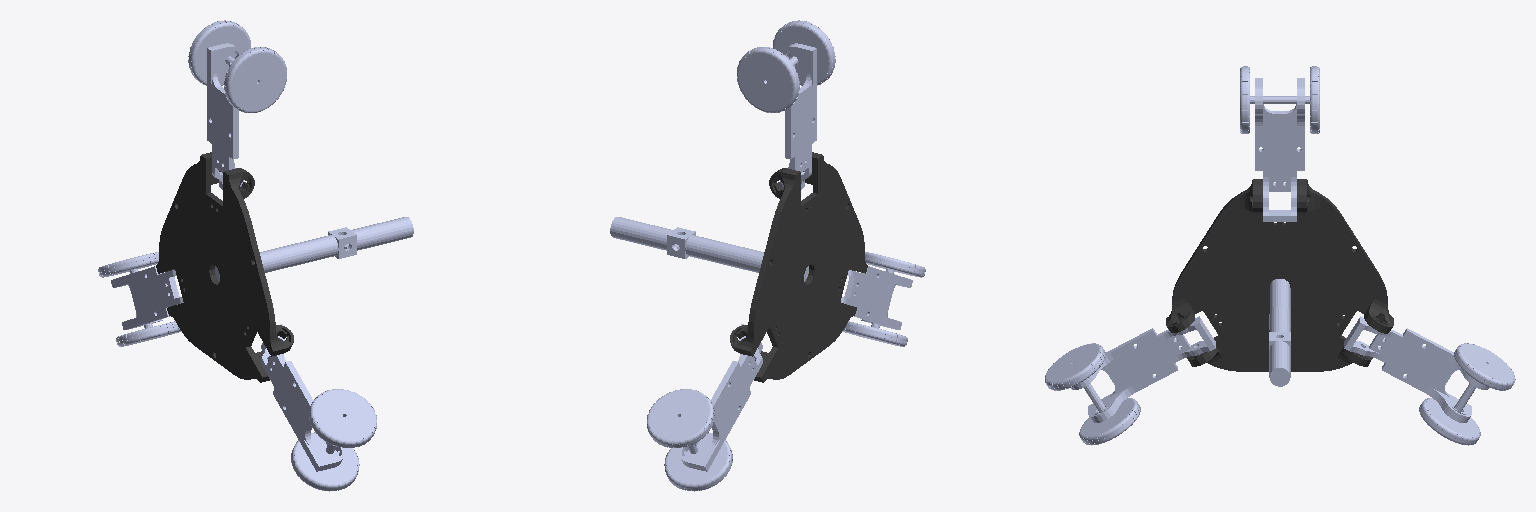
The robot description file, URDF, robot "segf_ver4":
<?xml version="1.0" encoding="utf-8"?>
<!-- This URDF was automatically created by SolidWorks to URDF Exporter! Originally created by [author] ([email redacted]) 
     Commit Version: 1.6.0-1-g15f4949  Build Version: 1.6.7594.29634
     For more information, please see http://wiki.ros.org/sw_urdf_exporter -->
<robot
  name="segf_ver4">
  <link
    name="base_link">
    <inertial>
      <origin
        xyz="0.010763 -0.19671 0.12575"
        rpy="0 0 0" />
      <mass
        value="0.029248" />
      <inertia
        ixx="3.8875E-05"
        ixy="-3.066E-09"
        ixz="-5.9801E-08"
        iyy="1.9864E-05"
        iyz="-7.6463E-10"
        izz="1.9306E-05" />
    </inertial>
    <visual>
      <origin
        xyz="0 0 0"
        rpy="0 0 0" />
      <geometry>
        <mesh
          filename="package://segf_ver4/meshes/base_link.STL" />
      </geometry>
      <material
        name="">
        <color
          rgba="0.29804 0.29804 0.29804 1" />
      </material>
    </visual>
    <collision>
      <origin
        xyz="0 0 0"
        rpy="0 0 0" />
      <geometry>
        <mesh
          filename="package://segf_ver4/meshes/base_link.STL" />
      </geometry>
    </collision>
  </link>
  <link
    name="sus1">
    <inertial>
      <origin
        xyz="0.024528 -0.0057974 -0.008"
        rpy="0 0 0" />
      <mass
        value="0.0048446" />
      <inertia
        ixx="3.4495E-07"
        ixy="5.1061E-08"
        ixz="1.278E-14"
        iyy="2.3123E-06"
        iyz="2.1948E-14"
        izz="2.0865E-06" />
    </inertial>
    <visual>
      <origin
        xyz="0 0 0"
        rpy="0 0 0" />
      <geometry>
        <mesh
          filename="package://segf_ver4/meshes/sus1.STL" />
      </geometry>
      <material
        name="">
        <color
          rgba="0.79216 0.81961 0.93333 1" />
      </material>
    </visual>
    <collision>
      <origin
        xyz="0 0 0"
        rpy="0 0 0" />
      <geometry>
        <mesh
          filename="package://segf_ver4/meshes/sus1.STL" />
      </geometry>
    </collision>
  </link>
  <joint
    name="sus1r"
    type="revolute">
    <origin
      xyz="0.020949 -0.28148 0.067161"
      rpy="3.1416 -0.5236 1.5708" />
    <parent
      link="base_link" />
    <child
      link="sus1" />
    <axis
      xyz="0 0 1" />
    <limit
      lower="0"
      upper="0"
      effort="0"
      velocity="0" />
  </joint>
  <link
    name="w1">
    <inertial>
      <origin
        xyz="5.2222E-12 0.011 1.8397E-11"
        rpy="0 0 0" />
      <mass
        value="0.0080256" />
      <inertia
        ixx="2.6304E-06"
        ixy="-7.5528E-16"
        ixz="6.5732E-16"
        iyy="9.6877E-07"
        iyz="-1.4033E-15"
        izz="2.6304E-06" />
    </inertial>
    <visual>
      <origin
        xyz="0 0 0"
        rpy="0 0 0" />
      <geometry>
        <mesh
          filename="package://segf_ver4/meshes/w1.STL" />
      </geometry>
      <material
        name="">
        <color
          rgba="0.79216 0.81961 0.93333 1" />
      </material>
    </visual>
    <collision>
      <origin
        xyz="0 0 0"
        rpy="0 0 0" />
      <geometry>
        <mesh
          filename="package://segf_ver4/meshes/w1.STL" />
      </geometry>
    </collision>
  </link>
  <joint
    name="w1c"
    type="continuous">
    <origin
      xyz="0 0 -0.019"
      rpy="1.5708 0 -1.0993" />
    <parent
      link="sus1" />
    <child
      link="w1" />
    <axis
      xyz="0 1 0" />
  </joint>
  <link
    name="sus2">
    <inertial>
      <origin
        xyz="0.024528 -0.0057974 -0.008"
        rpy="0 0 0" />
      <mass
        value="0.0048446" />
      <inertia
        ixx="3.4495E-07"
        ixy="5.1061E-08"
        ixz="1.5559E-13"
        iyy="2.3123E-06"
        iyz="4.3038E-14"
        izz="2.0865E-06" />
    </inertial>
    <visual>
      <origin
        xyz="0 0 0"
        rpy="0 0 0" />
      <geometry>
        <mesh
          filename="package://segf_ver4/meshes/sus2.STL" />
      </geometry>
      <material
        name="">
        <color
          rgba="0.79216 0.81961 0.93333 1" />
      </material>
    </visual>
    <collision>
      <origin
        xyz="0 0 0"
        rpy="0 0 0" />
      <geometry>
        <mesh
          filename="package://segf_ver4/meshes/sus2.STL" />
      </geometry>
    </collision>
  </link>
  <joint
    name="sus2r"
    type="revolute">
    <origin
      xyz="0.020949 -0.10396 0.081018"
      rpy="0 -0.5236 -1.5708" />
    <parent
      link="base_link" />
    <child
      link="sus2" />
    <axis
      xyz="0 0 1" />
    <limit
      lower="0"
      upper="0"
      effort="0"
      velocity="0" />
  </joint>
  <link
    name="w2">
    <inertial>
      <origin
        xyz="5.2131E-12 0.011 1.8437E-11"
        rpy="0 0 0" />
      <mass
        value="0.0080256" />
      <inertia
        ixx="2.6304E-06"
        ixy="-7.5528E-16"
        ixz="6.5728E-16"
        iyy="9.6877E-07"
        iyz="-1.3997E-15"
        izz="2.6304E-06" />
    </inertial>
    <visual>
      <origin
        xyz="0 0 0"
        rpy="0 0 0" />
      <geometry>
        <mesh
          filename="package://segf_ver4/meshes/w2.STL" />
      </geometry>
      <material
        name="">
        <color
          rgba="0.79216 0.81961 0.93333 1" />
      </material>
    </visual>
    <collision>
      <origin
        xyz="0 0 0"
        rpy="0 0 0" />
      <geometry>
        <mesh
          filename="package://segf_ver4/meshes/w2.STL" />
      </geometry>
    </collision>
  </link>
  <joint
    name="w2c"
    type="continuous">
    <origin
      xyz="0 0 -0.019"
      rpy="1.5708 0 -1.0993" />
    <parent
      link="sus2" />
    <child
      link="w2" />
    <axis
      xyz="0 1 0" />
  </joint>
  <link
    name="sus3">
    <inertial>
      <origin
        xyz="0.024528 -0.0057974 -0.008"
        rpy="0 0 0" />
      <mass
        value="0.0048446" />
      <inertia
        ixx="3.4495E-07"
        ixy="5.1061E-08"
        ixz="7.8572E-14"
        iyy="2.3122E-06"
        iyz="3.487E-14"
        izz="2.0865E-06" />
    </inertial>
    <visual>
      <origin
        xyz="0 0 0"
        rpy="0 0 0" />
      <geometry>
        <mesh
          filename="package://segf_ver4/meshes/sus3.STL" />
      </geometry>
      <material
        name="">
        <color
          rgba="0.79216 0.81961 0.93333 1" />
      </material>
    </visual>
    <collision>
      <origin
        xyz="0 0 0"
        rpy="0 0 0" />
      <geometry>
        <mesh
          filename="package://segf_ver4/meshes/sus3.STL" />
      </geometry>
    </collision>
  </link>
  <joint
    name="sus3r"
    type="revolute">
    <origin
      xyz="0.020949 -0.20472 0.22783"
      rpy="1.5708 1.5708 0" />
    <parent
      link="base_link" />
    <child
      link="sus3" />
    <axis
      xyz="0 0 1" />
    <limit
      lower="0"
      upper="0"
      effort="0"
      velocity="0" />
  </joint>
  <link
    name="w3">
    <inertial>
      <origin
        xyz="5.2175E-12 0.011 1.8417E-11"
        rpy="0 0 0" />
      <mass
        value="0.0080256" />
      <inertia
        ixx="2.6304E-06"
        ixy="-7.5527E-16"
        ixz="6.573E-16"
        iyy="9.6877E-07"
        iyz="-1.4015E-15"
        izz="2.6304E-06" />
    </inertial>
    <visual>
      <origin
        xyz="0 0 0"
        rpy="0 0 0" />
      <geometry>
        <mesh
          filename="package://segf_ver4/meshes/w3.STL" />
      </geometry>
      <material
        name="">
        <color
          rgba="0.79216 0.81961 0.93333 1" />
      </material>
    </visual>
    <collision>
      <origin
        xyz="0 0 0"
        rpy="0 0 0" />
      <geometry>
        <mesh
          filename="package://segf_ver4/meshes/w3.STL" />
      </geometry>
    </collision>
  </link>
  <joint
    name="w3c"
    type="continuous">
    <origin
      xyz="0 0 -0.019"
      rpy="1.5708 0 -1.0993" />
    <parent
      link="sus3" />
    <child
      link="w3" />
    <axis
      xyz="0 1 0" />
  </joint>
  <link
    name="con1">
    <inertial>
      <origin
        xyz="0.015 -8.3267E-17 -1.5266E-16"
        rpy="0 0 0" />
      <mass
        value="0.0023562" />
      <inertia
        ixx="2.9452E-08"
        ixy="4.8635E-22"
        ixz="1.2191E-21"
        iyy="1.9144E-07"
        iyz="0"
        izz="1.9144E-07" />
    </inertial>
    <visual>
      <origin
        xyz="0 0 0"
        rpy="0 0 0" />
      <geometry>
        <mesh
          filename="package://segf_ver4/meshes/con1.STL" />
      </geometry>
      <material
        name="">
        <color
          rgba="0.79216 0.81961 0.93333 1" />
      </material>
    </visual>
    <collision>
      <origin
        xyz="0 0 0"
        rpy="0 0 0" />
      <geometry>
        <mesh
          filename="package://segf_ver4/meshes/con1.STL" />
      </geometry>
    </collision>
  </link>
  <joint
    name="con1f"
    type="fixed">
    <origin
      xyz="0.011619 -0.19672 0.12534"
      rpy="3.0572 0 0" />
    <parent
      link="base_link" />
    <child
      link="con1" />
    <axis
      xyz="0 0 0" />
  </joint>
  <link
    name="con2">
    <inertial>
      <origin
        xyz="1.1102E-16 0.04813 -1.3878E-16"
        rpy="0 0 0" />
      <mass
        value="0.0027934" />
      <inertia
        ixx="3.4715E-07"
        ixy="-3.2053E-22"
        ixz="6.2304E-24"
        iyy="3.9932E-08"
        iyz="1.0635E-21"
        izz="3.4942E-07" />
    </inertial>
    <visual>
      <origin
        xyz="0 0 0"
        rpy="0 0 0" />
      <geometry>
        <mesh
          filename="package://segf_ver4/meshes/con2.STL" />
      </geometry>
      <material
        name="">
        <color
          rgba="0.79216 0.81961 0.93333 1" />
      </material>
    </visual>
    <collision>
      <origin
        xyz="0 0 0"
        rpy="0 0 0" />
      <geometry>
        <mesh
          filename="package://segf_ver4/meshes/con2.STL" />
      </geometry>
    </collision>
  </link>
  <joint
    name="con2p"
    type="prismatic">
    <origin
      xyz="0 0 0"
      rpy="0 -1.4864 -1.5708" />
    <parent
      link="con1" />
    <child
      link="con2" />
    <axis
      xyz="0 -1 0" />
    <limit
      lower="0"
      upper="0"
      effort="0"
      velocity="0" />
  </joint>
  <link
    name="uni">
    <inertial>
      <origin
        xyz="-1.3878E-17 1.9284E-09 1.9284E-09"
        rpy="0 0 0" />
      <mass
        value="0.00027149" />
      <inertia
        ixx="5.9356E-09"
        ixy="4.4722E-15"
        ixz="-4.4722E-15"
        iyy="3.2007E-09"
        iyz="1.0079E-21"
        izz="3.2007E-09" />
    </inertial>
    <visual>
      <origin
        xyz="0 0 0"
        rpy="0 0 0" />
      <geometry>
        <mesh
          filename="package://segf_ver4/meshes/uni.STL" />
      </geometry>
      <material
        name="">
        <color
          rgba="0.79216 0.81961 0.93333 1" />
      </material>
    </visual>
    <collision>
      <origin
        xyz="0 0 0"
        rpy="0 0 0" />
      <geometry>
        <mesh
          filename="package://segf_ver4/meshes/uni.STL" />
      </geometry>
    </collision>
  </link>
  <joint
    name="unir"
    type="revolute">
    <origin
      xyz="0 0.065 0"
      rpy="0 0 1.5708" />
    <parent
      link="con2" />
    <child
      link="uni" />
    <axis
      xyz="0 -1 0" />
    <limit
      lower="0"
      upper="0"
      effort="0"
      velocity="0" />
  </joint>
  <link
    name="con3">
    <inertial>
      <origin
        xyz="0.01687 -7.494E-16 5.5511E-16"
        rpy="0 0 0" />
      <mass
        value="0.0027934" />
      <inertia
        ixx="3.9932E-08"
        ixy="-2.2144E-21"
        ixz="9.9215E-22"
        iyy="3.4942E-07"
        iyz="2.2122E-23"
        izz="3.4715E-07" />
    </inertial>
    <visual>
      <origin
        xyz="0 0 0"
        rpy="0 0 0" />
      <geometry>
        <mesh
          filename="package://segf_ver4/meshes/con3.STL" />
      </geometry>
      <material
        name="">
        <color
          rgba="0.79216 0.81961 0.93333 1" />
      </material>
    </visual>
    <collision>
      <origin
        xyz="0 0 0"
        rpy="0 0 0" />
      <geometry>
        <mesh
          filename="package://segf_ver4/meshes/con3.STL" />
      </geometry>
    </collision>
  </link>
  <joint
    name="con3r"
    type="revolute">
    <origin
      xyz="0 0 0"
      rpy="0 0 0" />
    <parent
      link="uni" />
    <child
      link="con3" />
    <axis
      xyz="0 0 -1" />
    <limit
      lower="0"
      upper="0"
      effort="0"
      velocity="0" />
  </joint>
  <link
    name="con4">
    <inertial>
      <origin
        xyz="-0.018 6.6613E-16 3.8858E-16"
        rpy="0 0 0" />
      <mass
        value="0.0023562" />
      <inertia
        ixx="2.9452E-08"
        ixy="-1.1574E-21"
        ixz="-6.8231E-22"
        iyy="1.9144E-07"
        iyz="0"
        izz="1.9144E-07" />
    </inertial>
    <visual>
      <origin
        xyz="0 0 0"
        rpy="0 0 0" />
      <geometry>
        <mesh
          filename="package://segf_ver4/meshes/con4.STL" />
      </geometry>
      <material
        name="">
        <color
          rgba="0.79216 0.81961 0.93333 1" />
      </material>
    </visual>
    <collision>
      <origin
        xyz="0 0 0"
        rpy="0 0 0" />
      <geometry>
        <mesh
          filename="package://segf_ver4/meshes/con4.STL" />
      </geometry>
    </collision>
  </link>
  <joint
    name="con4p"
    type="prismatic">
    <origin
      xyz="0.068 0 0"
      rpy="-0.9827 0 0" />
    <parent
      link="con3" />
    <child
      link="con4" />
    <axis
      xyz="-1 0 0" />
    <limit
      lower="0"
      upper="0"
      effort="0"
      velocity="0" />
  </joint>
</robot>

--- Render facts (derived) ---
3 views of the same robot in one strip: view 1: azimuth 30°, elevation 25°; view 2: azimuth 150°, elevation 25°; view 3: azimuth 270°, elevation 25° (orthographic).
Model segf_ver4 with 12 links and 11 joints (5 revolute, 3 continuous, 2 prismatic, 1 fixed), rooted at base_link, posed every joint at zero.
Visible links, largest first — view 1: base_link, w3, w1, sus1, sus3, sus2, con3, w2, con2; view 2: base_link, w3, w2, sus2, sus3, sus1, w1, con3, con2; view 3: base_link, sus1, sus2, sus3, w2, w1, w3, con3, con2, con1.
Boxes of the visible links, x1,y1,x2,y2 form: base_link: (156,152,293,382); w3: (188,20,286,112); w1: (291,389,376,491); sus1: (261,324,344,471); sus3: (207,43,248,196); sus2: (111,266,183,329); con3: (328,217,413,254); w2: (98,252,181,346); con2: (275,229,356,268); base_link: (730,152,867,382); w3: (737,20,835,112); w2: (647,389,732,491); sus2: (679,324,762,471); sus3: (775,43,816,196); sus1: (841,266,912,329); w1: (842,252,925,346); con3: (610,217,695,258); con2: (667,229,748,269); base_link: (1166,179,1393,371); sus1: (1071,316,1215,422); sus2: (1344,316,1488,422); sus3: (1255,78,1304,221); w2: (1419,343,1515,445); w1: (1045,343,1140,445); w3: (1240,66,1319,133); con3: (1269,335,1290,386); con2: (1269,305,1290,345); con1: (1270,279,1290,313).
Bounding box of the posed robot: 0.1067 × 0.2231 × 0.1936 m (x, y, z).
Meshes: 12 distinct files referenced, 10 mesh visuals loaded (10 binary STL); not drawn: 2 (reference not matched to a file when rendering).